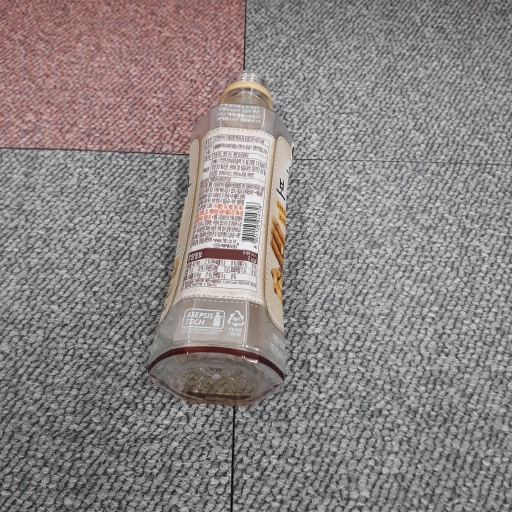Plastic_0: (154, 68, 294, 401)
